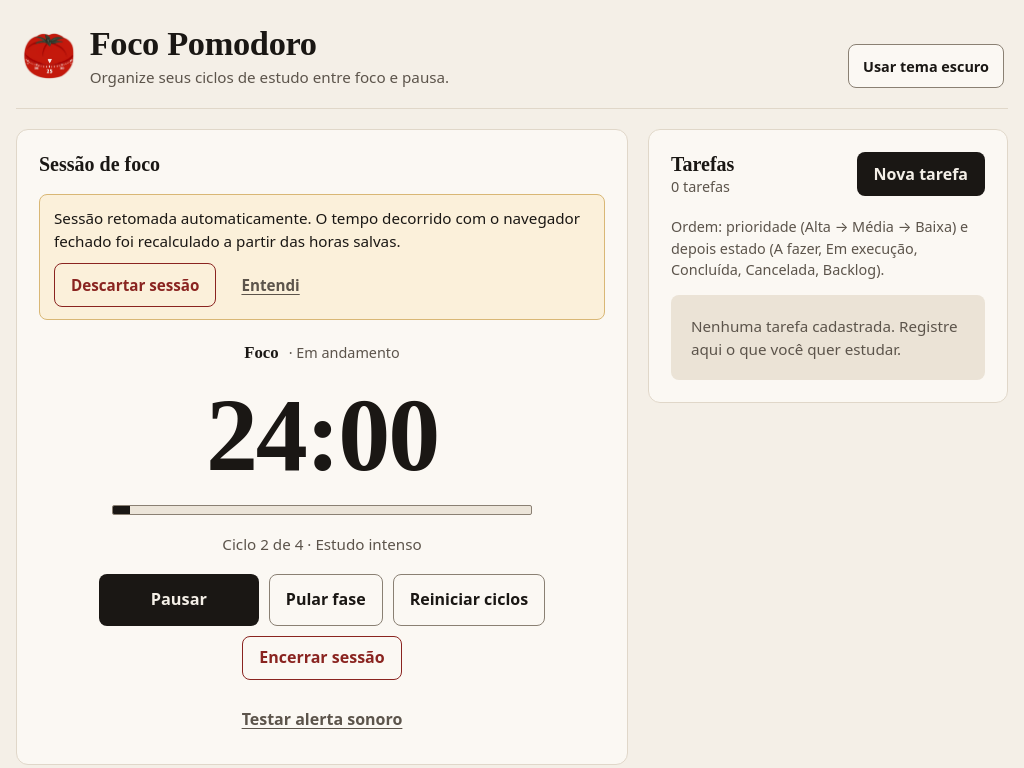
sessão de foco (UC04, UC05, RN-01, RN-05) › reiniciar ciclos volta ao ciclo 1 após confirmação
Expected: the text "Ciclo 2 de 4 · Estudo intenso" is shown, left=222, top=533, right=422, bottom=556
Click the button "Reiniciar ciclos" at x=469, y=600, box left=393, top=574, right=545, bottom=626
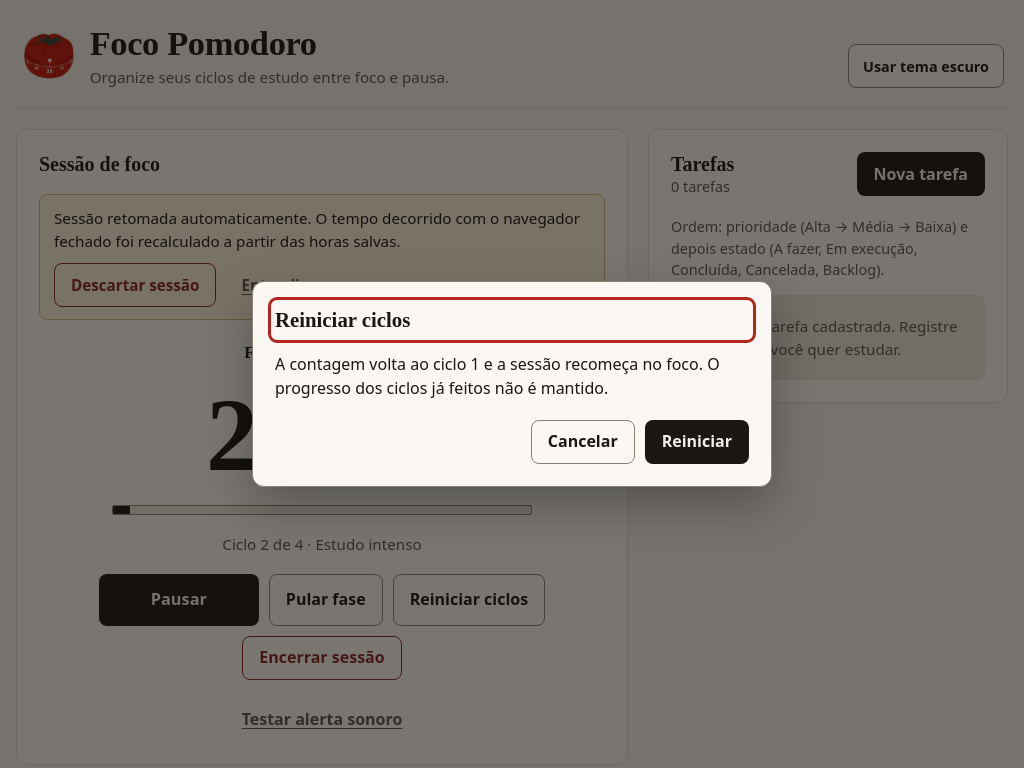
Click the button "Reiniciar" at x=697, y=442, box left=645, top=420, right=749, bottom=464
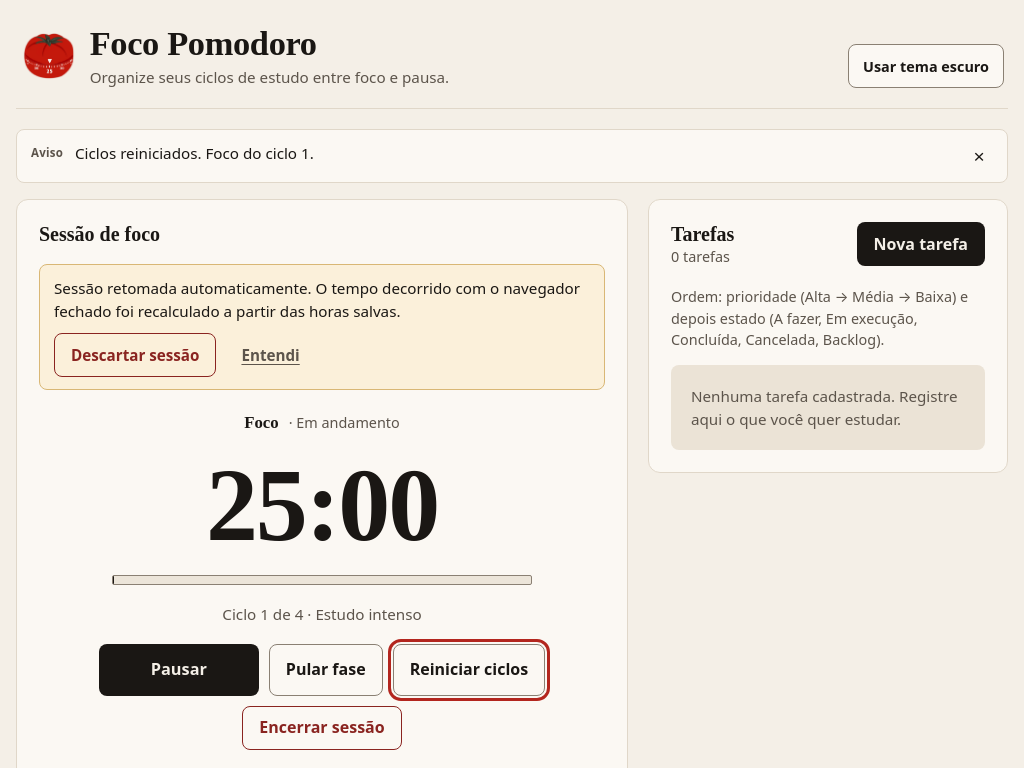
Now the text "Ciclo 1 de 4 · Estudo intenso" is shown, box left=222, top=603, right=422, bottom=626
